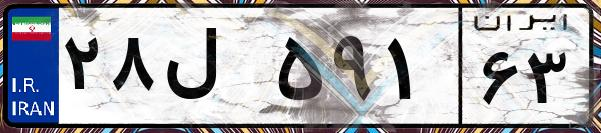1: (385, 28, 445, 110)
2: (57, 26, 110, 100)
3: (525, 38, 570, 115)
5: (270, 28, 330, 110)
6: (475, 38, 525, 113)
8: (110, 28, 158, 98)
9: (330, 28, 385, 110)
ل: (158, 20, 270, 120)
